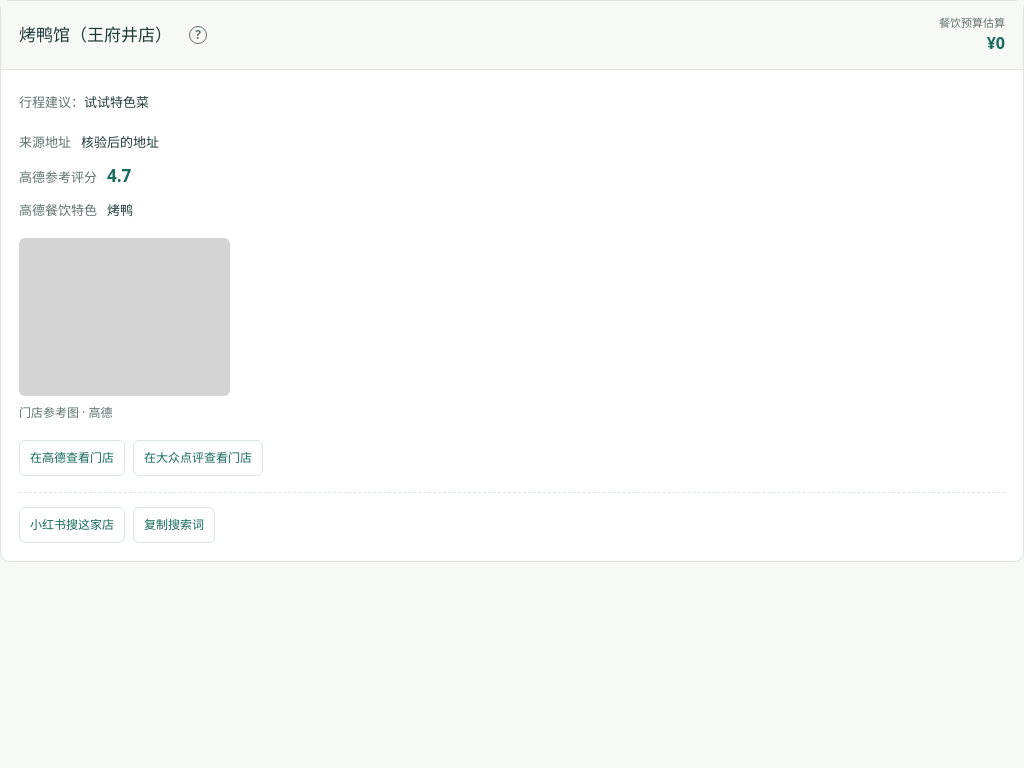
keeps verified facts and actions visible while one clickable help owns the detailed source explanations
Expected: the text "不是完整菜单" is not shown
Expected: the text "查询时间：" is not shown
Step 1. Click the button named "门店资料说明" → (198, 35), box [180,17,216,53]
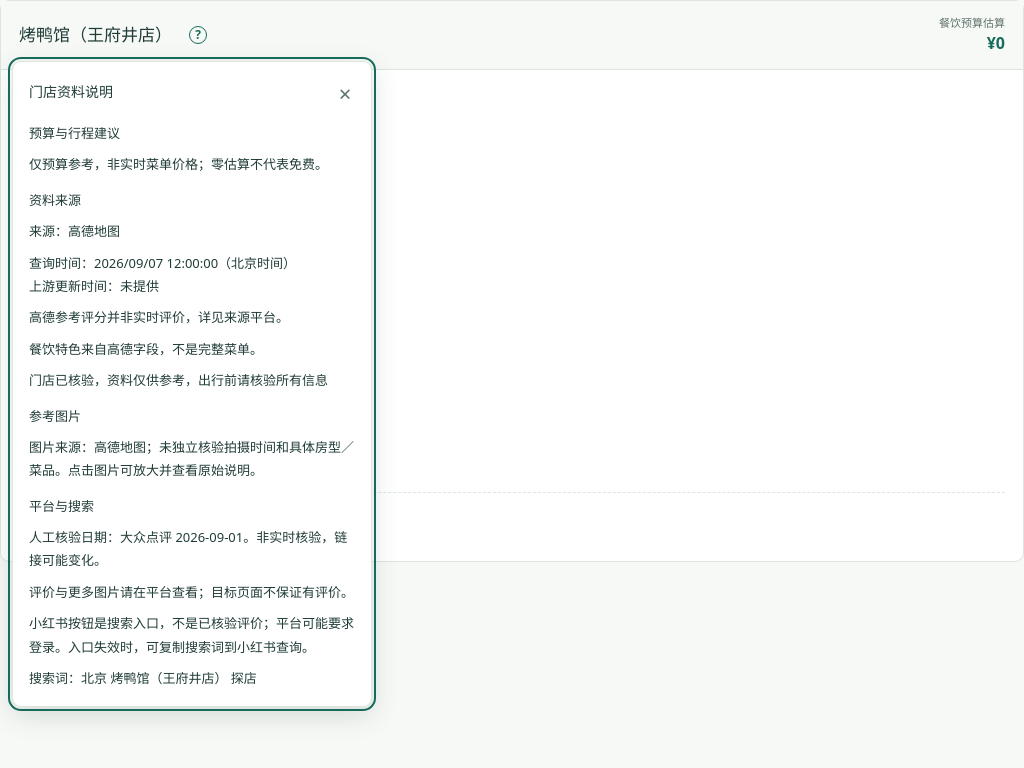
Result: the dialog with class "info-hint-panel" shows "不是完整菜单" at [29,340,263,358]
Result: the dialog with class "info-hint-panel" shows "查询时间：2026/09/07" at [29,254,296,272]
Result: the dialog with class "info-hint-panel" shows "人工核验日期：大众点评 2026-09-01" at [29,528,347,570]
